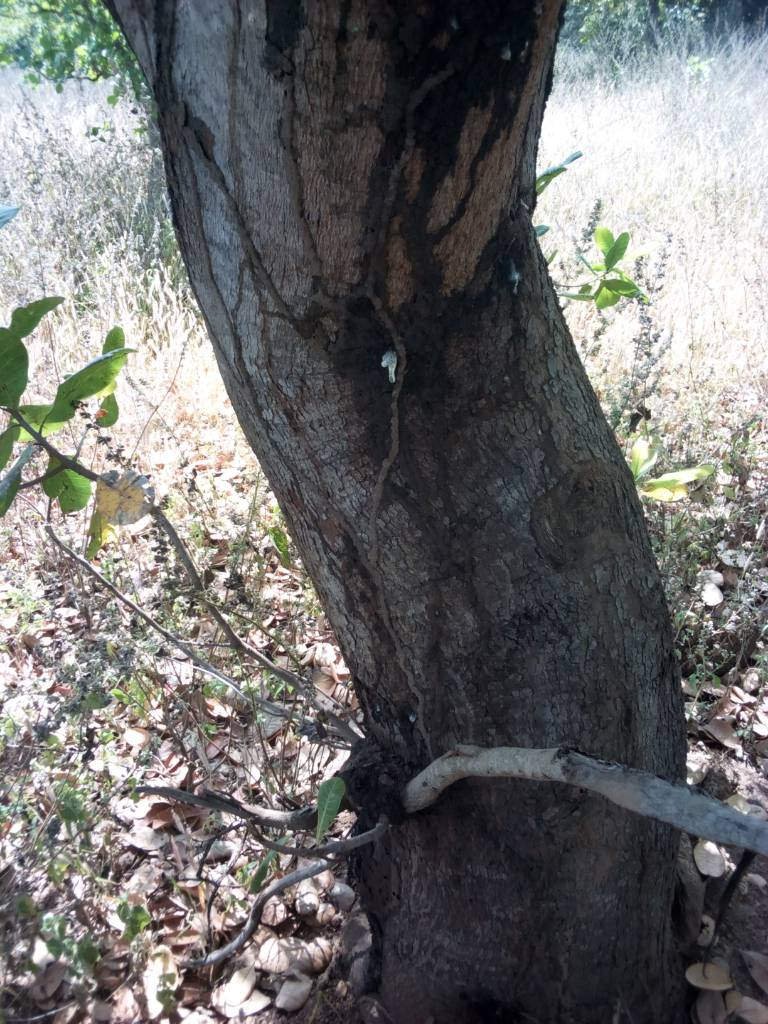Termites: (365, 66, 574, 724)
